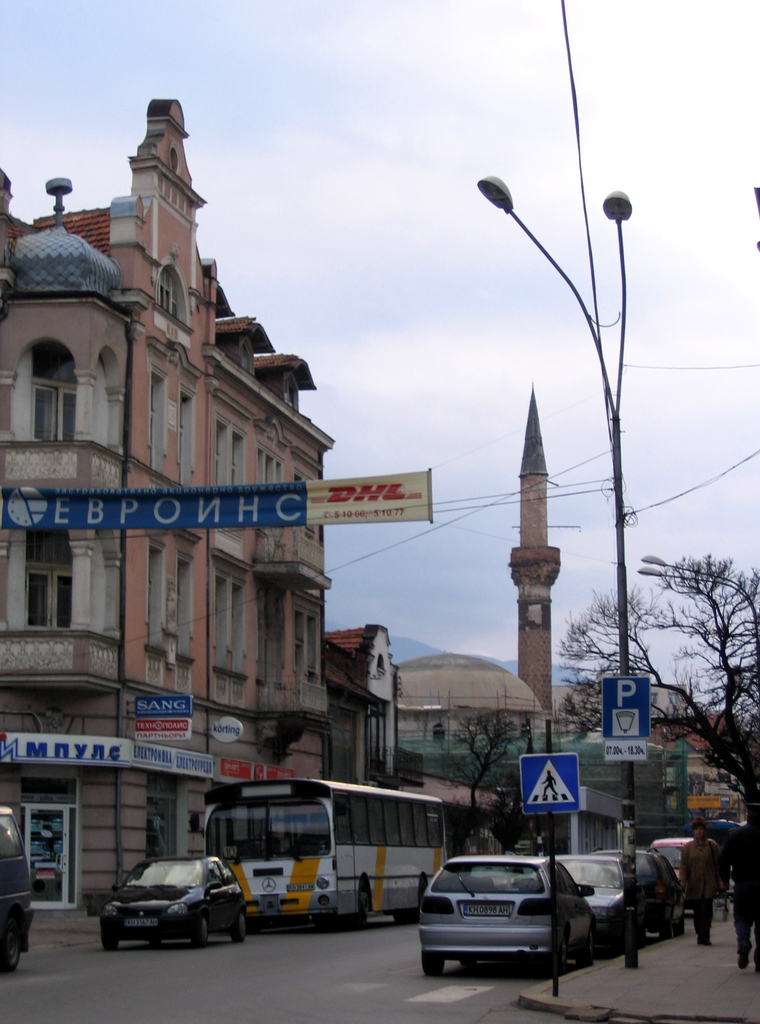Car: (418, 835, 729, 979), (96, 854, 249, 957), (0, 805, 37, 974)
